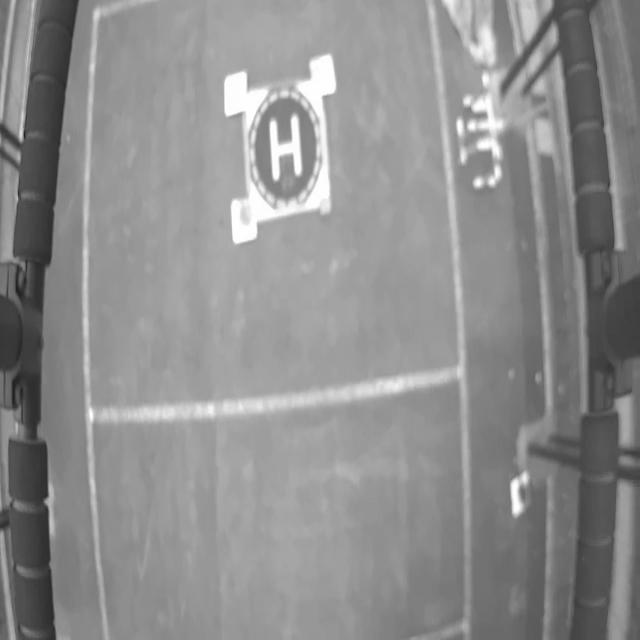Helipad: (269, 113, 304, 184)
